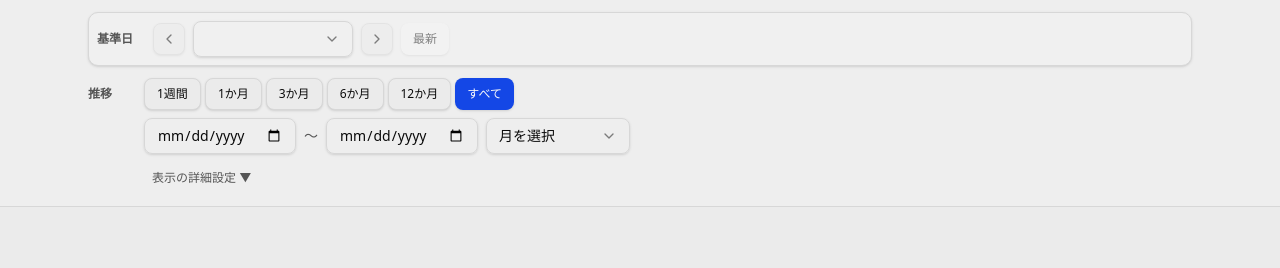
SnapshotTimeBar › renders bucket pick selector and shows min/max field when needed
Click the button "表示の詳細設定 ▼": [202, 178] box [144, 162, 259, 194]
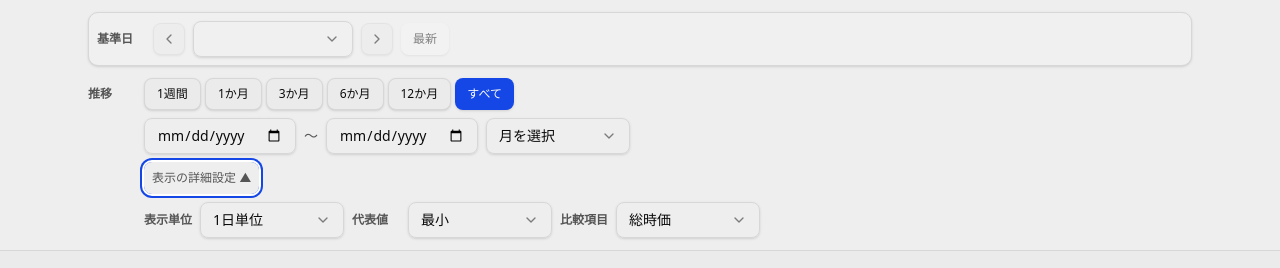
Expected: the dropdown named "代表値を選択" is shown, [408, 202, 552, 238]
Expected: the dropdown named "比較項目を選択" is shown, [616, 202, 760, 238]
